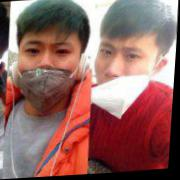WRONG: (15, 32, 87, 115), (93, 34, 157, 109)
